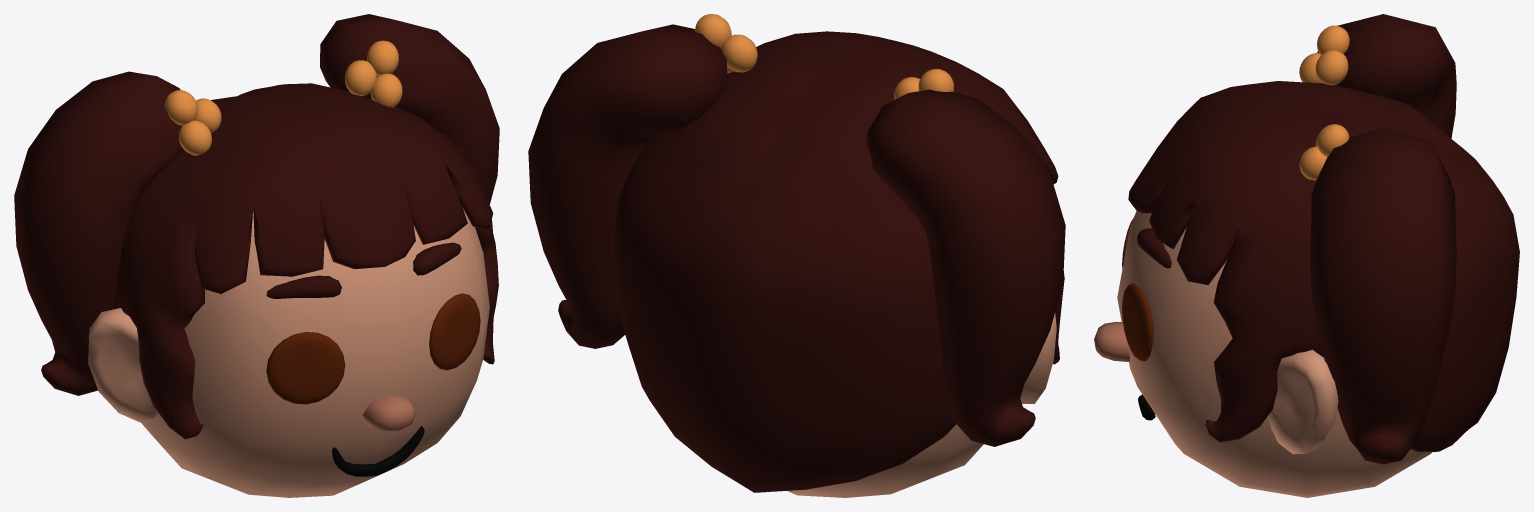
The model's file is GIRL_Blendshapes_Aaron_FIX_2.dae.
The picture shows the model from 3 angles, left to right: view 1: azimuth 30°, elevation 25°; view 2: azimuth 150°, elevation 25°; view 3: azimuth 270°, elevation 25°; orthographic projection. The views are drawn at different scales.
Parts seen in each view (by area): view 1: Hair, Head, Eyes_APPLIED, EyeBrows_APPLIED, Mouth_APPLIED; view 2: Hair, Head; view 3: Hair, Head, Eyes_APPLIED, EyeBrows_APPLIED.
Boxes of the visible parts, x1=… form: Hair: x1=14, y1=14, x2=499, y2=439; Head: x1=88, y1=208, x2=489, y2=497; Eyes_APPLIED: x1=266, y1=293, x2=480, y2=404; EyeBrows_APPLIED: x1=266, y1=242, x2=461, y2=298; Mouth_APPLIED: x1=332, y1=426, x2=424, y2=476; Hair: x1=528, y1=14, x2=1065, y2=492; Head: x1=788, y1=313, x2=1056, y2=497; Hair: x1=1128, y1=14, x2=1519, y2=464; Head: x1=1094, y1=211, x2=1432, y2=497; Eyes_APPLIED: x1=1122, y1=218, x2=1153, y2=361; EyeBrows_APPLIED: x1=1137, y1=228, x2=1171, y2=268.
Bounding box in the file's own units: 0.9555 × 0.7738 × 0.8045.
